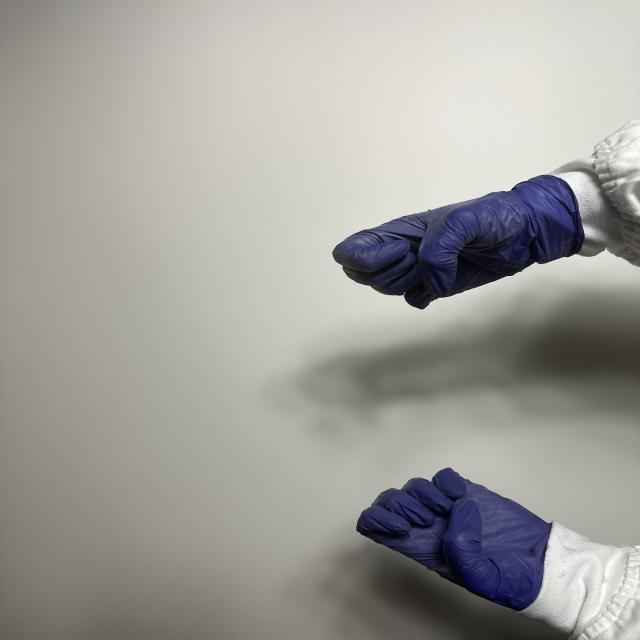gloves_contaminated: (333, 176, 584, 308), (358, 469, 551, 610)
